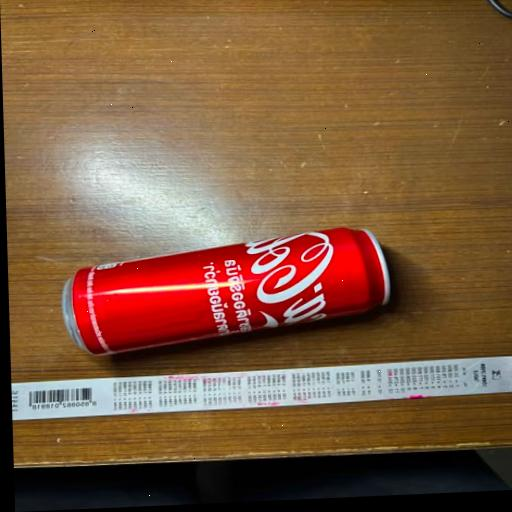canned: (35, 172, 426, 375)
